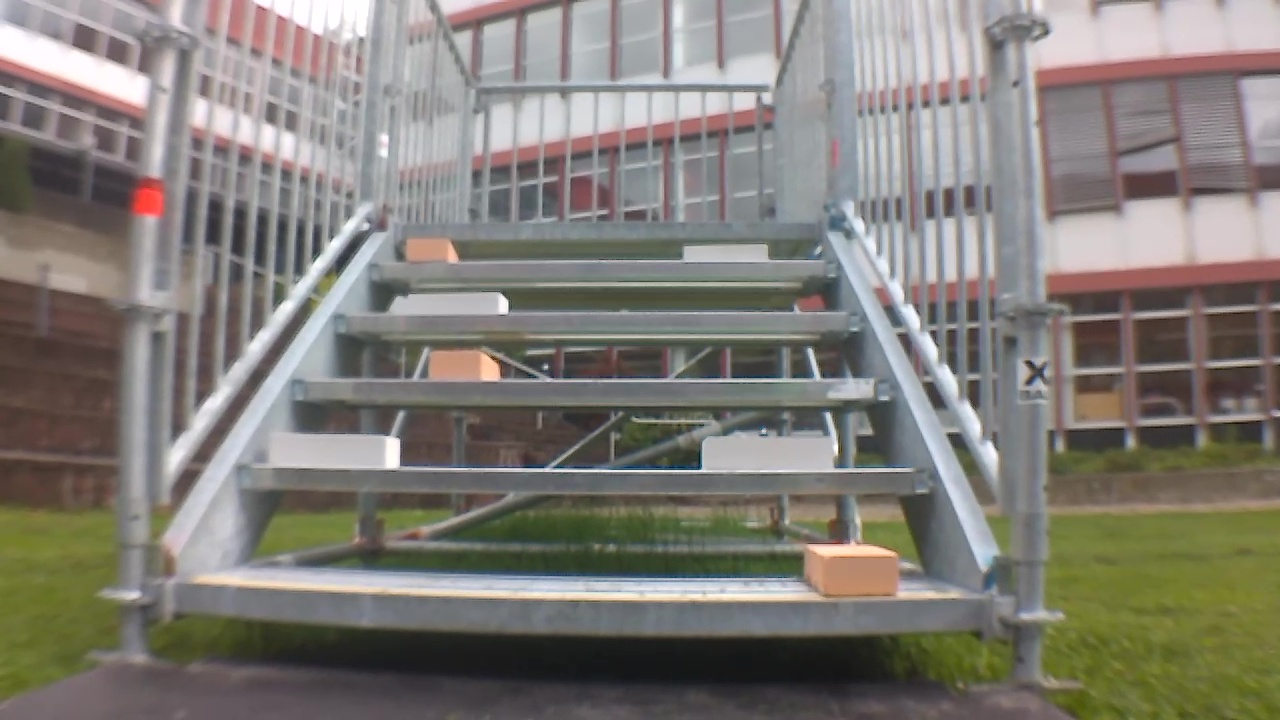brick: (803, 544, 899, 597), (270, 433, 399, 468), (702, 437, 832, 470), (410, 293, 508, 315), (429, 351, 499, 381), (685, 243, 767, 261), (405, 238, 457, 262)
edge: (179, 584, 988, 634), (238, 466, 936, 495), (294, 377, 897, 403), (332, 311, 864, 331), (396, 219, 820, 239), (369, 260, 839, 278)
stairs: (98, 4, 1063, 691)
steps: (175, 213, 1001, 644)
